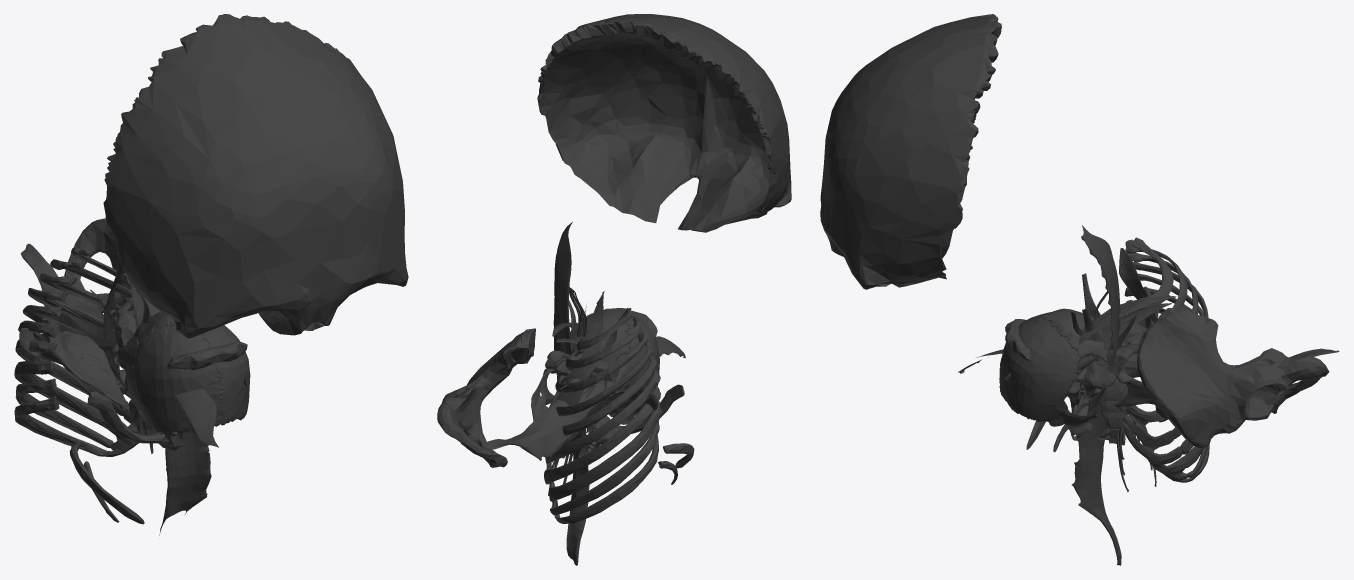
File: sharedassets34.glb
3 renders of one model, left to right at view 1: azimuth 30°, elevation 25°; view 2: azimuth 150°, elevation 25°; view 3: azimuth 270°, elevation 25°, orthographic. The views are drawn at different scales.
Parts seen in each view (by area): view 1: 0161_Frontal__001097, 0149_Parietal, R__001095, 0200_Longissimus thoracis, R__1000650, 0007_Scapula, L__000982, 0213_Longissimus thoracis, L__1000605, 0150_Parietal, L__001094, 0016_Eighth rib _08_, R__002280, 0018_Tenth rib _10_, R__002282, 0017_Ninth rib _09_, R__002281, 0011_Manubrium__001162, 0025_Seventh rib _07_, R__002279, 0008_Clavicle, L__000981 (+13 smaller); view 2: 0161_Frontal__001097, 0200_Longissimus thoracis, R__1000650, 0213_Longissimus thoracis, L__1000605, 0006_Ilium, R__001012, 0037_Seventh rib _07_, L__002291, 0016_Eighth rib _08_, R__002280, 0036_Sixth rib _06_, L__002290, 0003_Ilium, L__001003, 0017_Ninth rib _09_, R__002281, 0018_Tenth rib _10_, R__002282, 0207_Splenius cervicis, R__1000678, 0151_Occipital__001132 (+16 smaller); view 3: 0161_Frontal__001097, 0003_Ilium, L__001003, 0150_Parietal, L__001094, 0006_Ilium, R__001012, 0213_Longissimus thoracis, L__1000605, 0004_Ischium, R__001010, 0062_S01-05 Sacrum__001242, 0151_Occipital__001132, 0199_Sphenoid__001143, 0005_Pubis, R__001011, 0013_Body of sternum__001163, 0148_Mandible_body_001091 (+7 smaller).
Part boxes in pixels (x1,y1,x2,y2): 0161_Frontal__001097: (103, 14, 408, 338); 0149_Parietal, R__001095: (133, 324, 222, 434); 0200_Longissimus thoracis, R__1000650: (21, 243, 218, 447); 0007_Scapula, L__000982: (19, 317, 126, 406); 0213_Longissimus thoracis, L__1000605: (159, 430, 211, 535); 0150_Parietal, L__001094: (202, 325, 250, 425); 0016_Eighth rib _08_, R__002280: (14, 360, 138, 448); 0018_Tenth rib _10_, R__002282: (14, 396, 122, 456); 0017_Ninth rib _09_, R__002281: (15, 378, 130, 453); 0011_Manubrium__001162: (166, 340, 247, 370); 0025_Seventh rib _07_, R__002279: (16, 343, 132, 423); 0008_Clavicle, L__000981: (87, 392, 164, 443); 0161_Frontal__001097: (537, 14, 791, 232); 0200_Longissimus thoracis, R__1000650: (481, 336, 685, 460); 0213_Longissimus thoracis, L__1000605: (553, 222, 589, 565); 0006_Ilium, R__001012: (468, 328, 535, 412); 0037_Seventh rib _07_, L__002291: (544, 386, 660, 484); 0016_Eighth rib _08_, R__002280: (551, 401, 662, 502); 0036_Sixth rib _06_, L__002290: (545, 369, 659, 463); 0003_Ilium, L__001003: (459, 328, 535, 425); 0017_Ninth rib _09_, R__002281: (552, 420, 659, 514); 0018_Tenth rib _10_, R__002282: (554, 435, 658, 523); 0207_Splenius cervicis, R__1000678: (556, 291, 604, 405); 0151_Occipital__001132: (570, 310, 631, 380); 0161_Frontal__001097: (820, 14, 1001, 289); 0003_Ilium, L__001003: (1137, 306, 1257, 448); 0150_Parietal, L__001094: (999, 317, 1080, 426); 0006_Ilium, R__001012: (1137, 306, 1256, 441); 0213_Longissimus thoracis, L__1000605: (1071, 225, 1121, 565); 0004_Ischium, R__001010: (1248, 348, 1328, 391); 0062_S01-05 Sacrum__001242: (1076, 324, 1146, 392); 0151_Occipital__001132: (1042, 308, 1110, 361); 0199_Sphenoid__001143: (1062, 380, 1104, 436); 0005_Pubis, R__001011: (1246, 381, 1300, 419); 0013_Body of sternum__001163: (1099, 339, 1127, 428); 0148_Mandible_body_001091: (1115, 353, 1168, 422).
Size of the model in its own units: 0.175 by 0.3602 by 0.3138.
Materials: 1 (1 with a texture image).
